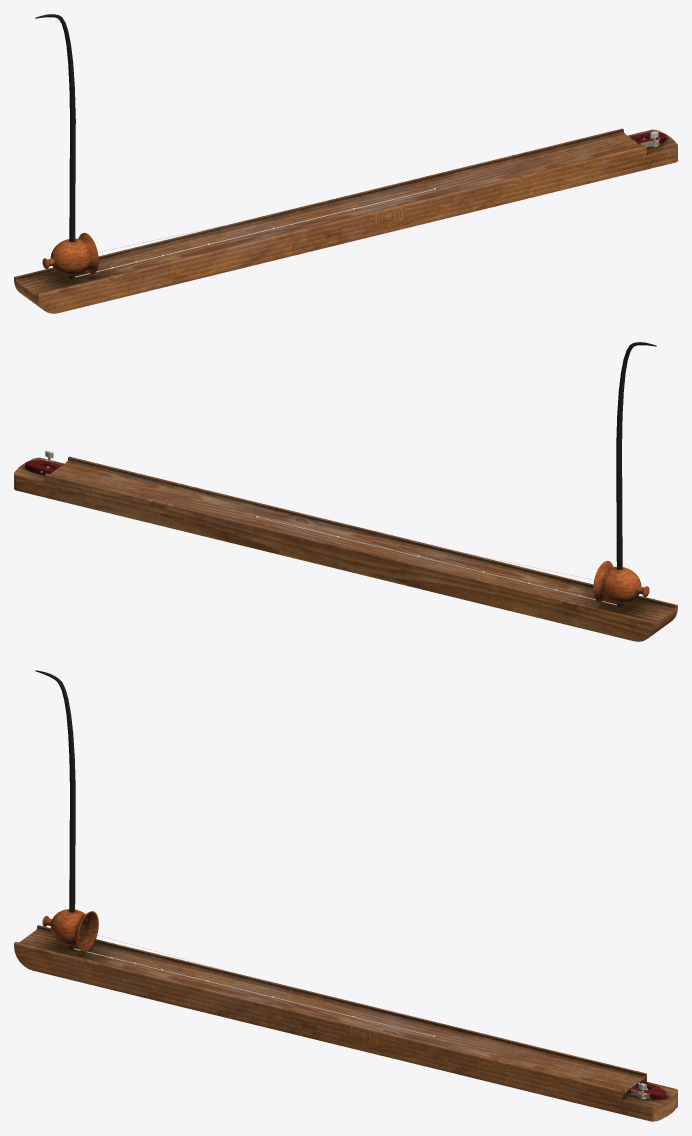
The model's file is monochord.glb.
3 renders of one model, top to bottom at view 1: azimuth 30°, elevation 25°; view 2: azimuth 150°, elevation 25°; view 3: azimuth 330°, elevation 25°, orthographic.
Visible parts, largest first — view 1: Box001; view 2: Box001; view 3: Box001.
Part boxes in pixels (x1,y1,x2,y2): Box001: [14, 14, 677, 313]; Box001: [14, 342, 677, 641]; Box001: [14, 670, 677, 1121].
Size of the model in its own units: 313 by 134 by 20.88.
1 material, 1 textured.
